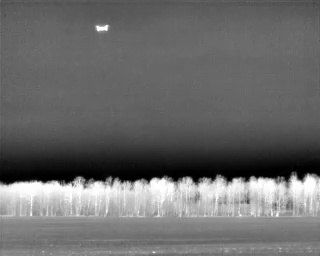DRONE: (92, 20, 114, 38)
